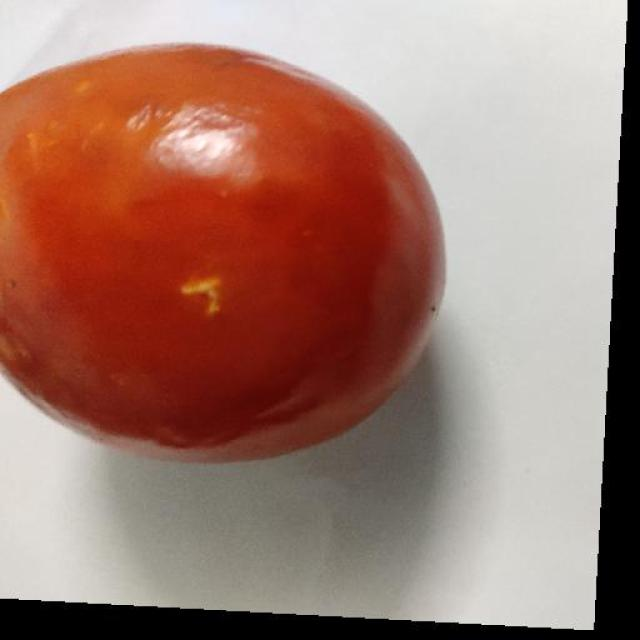Stale_tomato: (0, 4, 446, 458)
